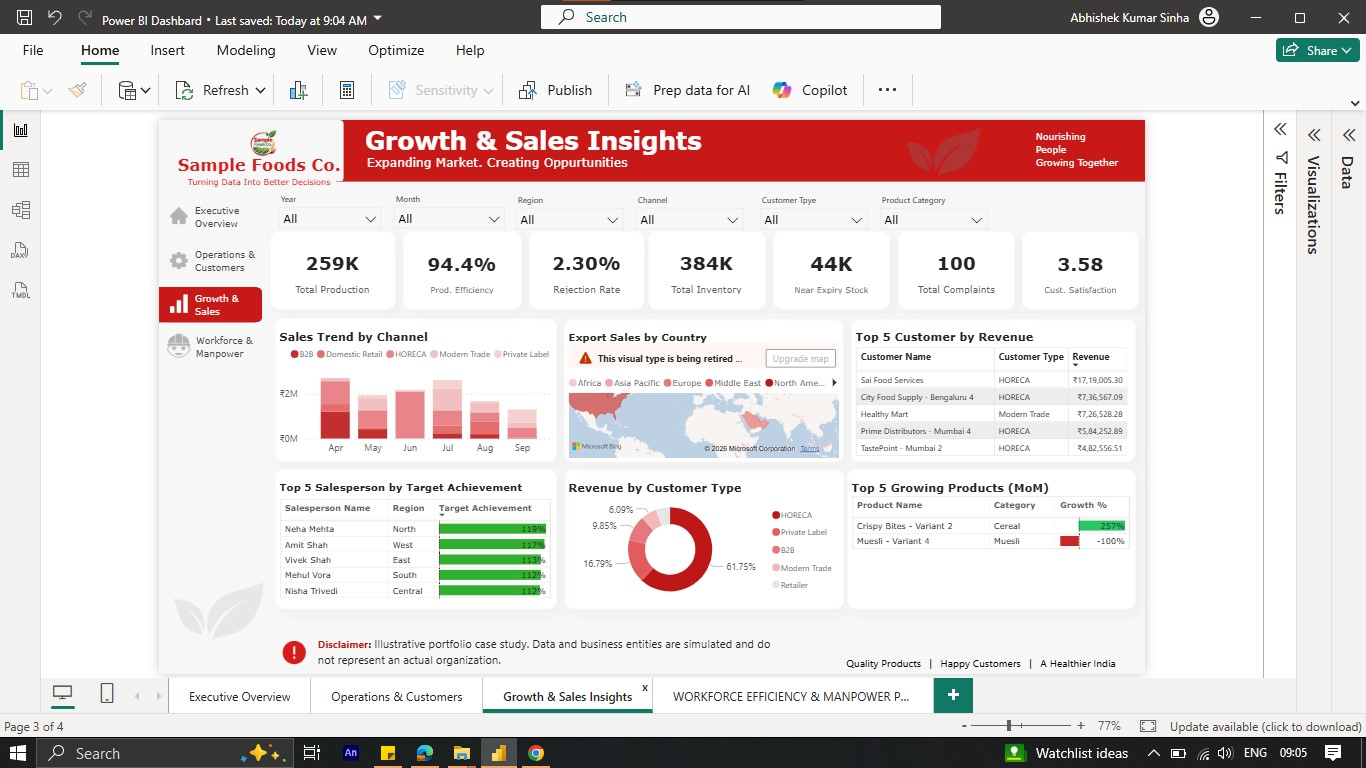

What the dashboard file says about the page in this screenshot:
{"tool":"powerbi","page":{"name":"Growth & Sales Insights","canvas":[1280,720],"ordinal":2},"visuals":[{"type":"textbox","title":"Shanti Foods","box":[10,37.5,239.5,39.9],"z":0,"group":"g12"},{"type":"shape","title":"Side_Button_1_Cover","box":[0,103,125.1,46],"z":0,"group":"g3"},{"type":"slicer","title":"Slicer_Year_2","fields":{"Values":["Date_Table.Year"]},"box":[150.2,107.7,142.9,40.5],"z":0,"group":"g9"},{"type":"slicer","title":"Slicer_Year_2","fields":{"Values":["Date_Table.Month"]},"box":[299.6,108.5,153.8,40.4],"z":0,"group":"g8"},{"type":"slicer","title":"Slicer_Year_2","fields":{"Values":["Sales_Transactions.Region"]},"box":[459,108.7,149.5,40.5],"z":0,"group":"g7"},{"type":"slicer","title":"Slicer_Year_2","fields":{"Values":["Sales_Transactions.Sales_Channel"]},"box":[614.8,108.7,149.5,40.5],"z":0,"group":"g6"},{"type":"slicer","title":"Slicer_Year_2","fields":{"Values":["Sales_Transactions.Customer_Type"]},"box":[775,108.8,149.5,40.5],"z":0,"group":"g5"},{"type":"slicer","title":"Slicer_Year_2","fields":{"Values":["Sales_Transactions.Category"]},"box":[931,108.8,149.5,40.5],"z":0,"group":"g4"},{"type":"shape","title":"Side_Button_1_Cover","box":[0,160.9,125.1,46],"z":0,"group":"g2"},{"type":"shape","title":"Side_Button_1_Cover","box":[0,216.8,125.1,46],"z":0,"group":"g1"},{"type":"shape","title":"Side_Button_1_Cover","box":[0,272.7,125.1,46],"z":0,"group":"g11"},{"type":"donutChart","title":"Revenue by Customer Type","fields":{"Category":["Customer_Master.Customer_Type"],"Y":["Sales_Transactions.Total Revenue"]},"box":[525.5,452.7,363.6,181.8],"z":0},{"type":"textbox","box":[200,664.3,598.6,55.7],"z":0,"group":"g10"},{"type":"shape","title":"Tittle_L","box":[229.3,0,1050.7,80],"z":1000},{"type":"textbox","title":"Tagline","box":[10,62.3,239.5,30.3],"z":1000,"group":"g12"},{"type":"textbox","title":"Slicer_text_2","box":[158.1,91.9,138.3,20.7],"z":1000,"group":"g9"},{"type":"textbox","title":"Slicer_text_2","box":[307.2,92.8,138.3,20.7],"z":1000,"group":"g8"},{"type":"textbox","title":"Slicer_text_2","box":[466.6,92.9,138.3,20.7],"z":1000,"group":"g7"},{"type":"textbox","title":"Slicer_text_2","box":[622.4,92.9,138.3,20.7],"z":1000,"group":"g6"},{"type":"textbox","title":"Slicer_text_2","box":[782.6,93,138.3,20.7],"z":1000,"group":"g5"},{"type":"textbox","title":"Slicer_text_2","box":[938.6,93,138.3,20.7],"z":1000,"group":"g4"},{"type":"shape","title":"Side_Button_1","box":[0,102.8,134.4,46.1],"z":1000,"group":"g3"},{"type":"shape","title":"Side_Button_1","box":[0,160.7,134.4,46.1],"z":1000,"group":"g2"},{"type":"shape","title":"Side_Button_1","box":[0,216.6,134.4,46.1],"z":1000,"group":"g1"},{"type":"shape","title":"Side_Button_1","box":[0,272.5,134.4,46.1],"z":1000,"group":"g11"},{"type":"image","box":[150,675.7,50,30],"z":1000,"group":"g10"},{"type":"shape","title":"Title_S","box":[0,0,240,80],"z":2000},{"type":"image","title":"Logoo","box":[110,10,50.4,36.8],"z":2000,"group":"g12"},{"type":"image","title":"Homo_logo","box":[14,105.8,22.8,38],"z":2000,"group":"g3"},{"type":"image","title":"Setting_logo","box":[14,163.7,22.8,38],"z":2000,"group":"g2"},{"type":"image","title":"Signal_logo","box":[14,219.6,22.8,38],"z":2000,"group":"g1"},{"type":"image","title":"Signal_logo","box":[9.3,264.3,32.9,58.6],"z":2000,"group":"g11"},{"type":"textbox","title":"Exec_text","box":[47.3,108.5,69.7,35.2],"z":3000,"group":"g3"},{"type":"textbox","title":"Ops/ customer text","box":[46.9,165.2,79.5,36.4],"z":3000,"group":"g2"},{"type":"group","id":"g1","title":"Side Button 3","box":[0,216.6,134.5,46.2],"z":3000},{"type":"textbox","title":"Growth/Sales text","box":[47.3,222.3,69.7,35.2],"z":3000,"group":"g1"},{"type":"textbox","title":"Growth/Sales text","box":[47.9,277.3,87.1,35],"z":3000,"group":"g11"},{"type":"group","id":"g2","title":"Side Button 2","box":[0,160.7,134.1,46.2],"z":4000},{"type":"group","id":"g3","title":"Side Button 1","box":[0,102.8,134.4,46.2],"z":5000},{"type":"textbox","title":"Header Tagline 1","box":[267,6,607,42],"z":6000},{"type":"textbox","title":"Header Title 1","box":[270,45,420,23],"z":7000},{"type":"textbox","title":"Header Sideline 1","box":[1138.7,12,130,55.3],"z":8000},{"type":"cardVisual","title":"Total Production","fields":{"Data":["Production.Production Output"]},"box":[144.1,144.1,162.9,101.8],"z":9000},{"type":"columnChart","title":"Sales Trend by Channel","fields":{"Category":["Date_Table.Month_Short"],"Y":["Sales_Transactions.Total Revenue"],"Series":["Sales_Transactions.Sales_Channel"]},"box":[150,257.3,366.4,187.3],"z":10000},{"type":"filledMap","title":"Export Sales by Country","fields":{"Category":["Export_Sales.Country"],"Series":["Export_Sales.International_Region"]},"box":[525.7,258.6,362.9,185.7],"z":11000},{"type":"tableEx","title":"Top 5 Customer by Revenue","fields":{"Values":["Customer_Master.Customer_Name","Customer_Master.Customer_Type","Sales_Transactions.Total Revenue"]},"box":[898.6,258.6,370,185.7],"z":12000},{"type":"tableEx","title":"Top 5 Salesperson by Target Achievement","fields":{"Values":["Sales_Performance.Sales_Representative","Sales_Performance.Region","Sales_Performance.Target Achievement %"]},"box":[150,452.7,366.4,181.8],"z":13000},{"type":"group","id":"g4","title":"Slicer 6","box":[931,93,149,56],"z":14000},{"type":"group","id":"g5","title":"Slicer 5","box":[775,93,149.5,56.3],"z":15000},{"type":"group","id":"g6","title":"Slicer 4","box":[614.8,92.9,149.5,56.2],"z":16000},{"type":"group","id":"g7","title":"Slicer 3","box":[459,92.9,149.5,56.3],"z":17000},{"type":"group","id":"g8","title":"Slicer 2","box":[299.6,92.8,153.8,56.1],"z":18000},{"type":"group","id":"g9","title":"Slicer 1","box":[150.2,91.9,146.1,56.2],"z":19000},{"type":"cardVisual","title":"Production Efficiency","fields":{"Data":["Production.Production Efficiency %"]},"box":[317.1,144.1,154.1,101.8],"z":20000},{"type":"cardVisual","title":"Rejection Rate","fields":{"Data":["Production.Rejection Rate %"]},"box":[480,143.5,150,101.8],"z":21000},{"type":"cardVisual","title":"Total Inventory","fields":{"Data":["Inventory.Closing Stock"]},"box":[635.3,144.1,152.9,101.8],"z":22000},{"type":"cardVisual","title":"Near Expiry Stock","fields":{"Data":["Inventory.Near Expiry Stock"]},"box":[797.6,143.5,152.4,101.8],"z":23000},{"type":"cardVisual","title":"Total Complaints","fields":{"Data":["Complaints_Returns.Total Complaints"]},"box":[959.4,144.1,152.4,101.8],"z":24000},{"type":"cardVisual","title":"Customer","fields":{"Data":["Complaints_Returns.Avg Customer Satisfaction"]},"box":[1120.6,143.5,152.4,101.8],"z":25000},{"type":"tableEx","title":"Top 5 Growing Products (MoM)","fields":{"Values":["Product_Master.Product_Name","Product_Master.Category","Complaints_Returns.Product Growth %"]},"box":[893.6,452.7,375.5,181.8],"z":26000},{"type":"textbox","title":"Footer","box":[856.4,690.9,423.6,29.1],"z":27000},{"type":"group","id":"g10","title":"Group 1","box":[150,664.3,648.6,55.7],"z":28000},{"type":"group","id":"g11","title":"Side Button 4","box":[0,264.3,135,58.6],"z":29000},{"type":"image","title":"Bird","box":[0,555,150,165],"z":30000},{"type":"image","title":"Bird","box":[941.7,0,150,81.7],"z":31000},{"type":"group","id":"g12","title":"TOP LOGO","box":[10,10,239.5,82.6],"z":32000}]}

Visuals, with their boxes on the page's 1280x720 design canvas (x1, y1, x2, y2). These are canvas units, not pixel positions in the 1366x768 screenshot, which may show the page scaled, cropped or inside an application window:
"Shanti Foods" textbox: select_region(10, 38, 250, 77)
"Side_Button_1_Cover" shape: select_region(0, 103, 125, 149)
"Slicer_Year_2" slicer: select_region(150, 108, 293, 148)
"Slicer_Year_2" slicer: select_region(300, 108, 453, 149)
"Slicer_Year_2" slicer: select_region(459, 109, 608, 149)
"Slicer_Year_2" slicer: select_region(615, 109, 764, 149)
"Slicer_Year_2" slicer: select_region(775, 109, 924, 149)
"Slicer_Year_2" slicer: select_region(931, 109, 1080, 149)
"Side_Button_1_Cover" shape: select_region(0, 161, 125, 207)
"Side_Button_1_Cover" shape: select_region(0, 217, 125, 263)
"Side_Button_1_Cover" shape: select_region(0, 273, 125, 319)
"Revenue by Customer Type" donutChart: select_region(526, 453, 889, 634)
textbox: select_region(200, 664, 799, 720)
"Tittle_L" shape: select_region(229, 0, 1280, 80)
"Tagline" textbox: select_region(10, 62, 250, 93)
"Slicer_text_2" textbox: select_region(158, 92, 296, 113)
"Slicer_text_2" textbox: select_region(307, 93, 446, 114)
"Slicer_text_2" textbox: select_region(467, 93, 605, 114)
"Slicer_text_2" textbox: select_region(622, 93, 761, 114)
"Slicer_text_2" textbox: select_region(783, 93, 921, 114)
"Slicer_text_2" textbox: select_region(939, 93, 1077, 114)
"Side_Button_1" shape: select_region(0, 103, 134, 149)
"Side_Button_1" shape: select_region(0, 161, 134, 207)
"Side_Button_1" shape: select_region(0, 217, 134, 263)
"Side_Button_1" shape: select_region(0, 272, 134, 319)
image: select_region(150, 676, 200, 706)
"Title_S" shape: select_region(0, 0, 240, 80)
"Logoo" image: select_region(110, 10, 160, 47)
"Homo_logo" image: select_region(14, 106, 37, 144)
"Setting_logo" image: select_region(14, 164, 37, 202)
"Signal_logo" image: select_region(14, 220, 37, 258)
"Signal_logo" image: select_region(9, 264, 42, 323)
"Exec_text" textbox: select_region(47, 108, 117, 144)
"Ops/ customer text" textbox: select_region(47, 165, 126, 202)
"Side Button 3" group: select_region(0, 217, 134, 263)
"Growth/Sales text" textbox: select_region(47, 222, 117, 258)
"Growth/Sales text" textbox: select_region(48, 277, 135, 312)
"Side Button 2" group: select_region(0, 161, 134, 207)
"Side Button 1" group: select_region(0, 103, 134, 149)
"Header Tagline 1" textbox: select_region(267, 6, 874, 48)
"Header Title 1" textbox: select_region(270, 45, 690, 68)
"Header Sideline 1" textbox: select_region(1139, 12, 1269, 67)
"Total Production" cardVisual: select_region(144, 144, 307, 246)
"Sales Trend by Channel" columnChart: select_region(150, 257, 516, 445)
"Export Sales by Country" filledMap: select_region(526, 259, 889, 444)
"Top 5 Customer by Revenue" tableEx: select_region(899, 259, 1269, 444)
"Top 5 Salesperson by Target Achievement" tableEx: select_region(150, 453, 516, 634)
"Slicer 6" group: select_region(931, 93, 1080, 149)
"Slicer 5" group: select_region(775, 93, 924, 149)
"Slicer 4" group: select_region(615, 93, 764, 149)
"Slicer 3" group: select_region(459, 93, 608, 149)
"Slicer 2" group: select_region(300, 93, 453, 149)
"Slicer 1" group: select_region(150, 92, 296, 148)
"Production Efficiency" cardVisual: select_region(317, 144, 471, 246)
"Rejection Rate" cardVisual: select_region(480, 144, 630, 245)
"Total Inventory" cardVisual: select_region(635, 144, 788, 246)
"Near Expiry Stock" cardVisual: select_region(798, 144, 950, 245)
"Total Complaints" cardVisual: select_region(959, 144, 1112, 246)
"Customer" cardVisual: select_region(1121, 144, 1273, 245)
"Top 5 Growing Products (MoM)" tableEx: select_region(894, 453, 1269, 634)
"Footer" textbox: select_region(856, 691, 1280, 720)
"Group 1" group: select_region(150, 664, 799, 720)
"Side Button 4" group: select_region(0, 264, 135, 323)
"Bird" image: select_region(0, 555, 150, 720)
"Bird" image: select_region(942, 0, 1092, 82)
"TOP LOGO" group: select_region(10, 10, 250, 93)
